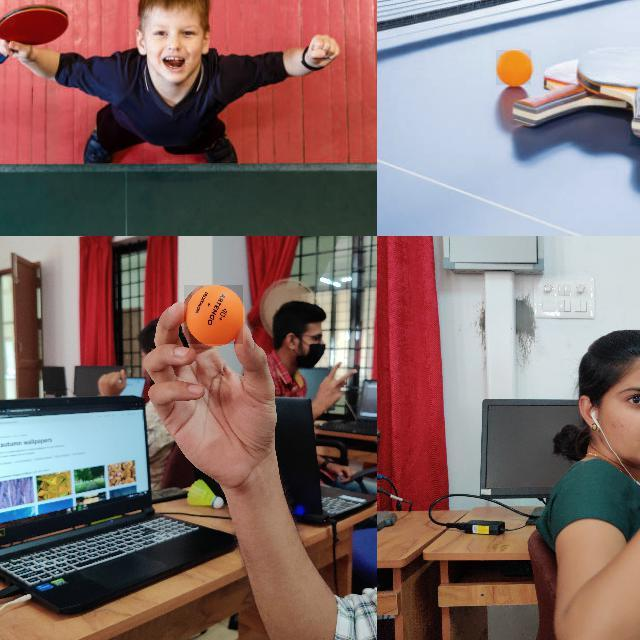ping-pong-ball: (184, 284, 244, 346), (496, 50, 532, 86)
